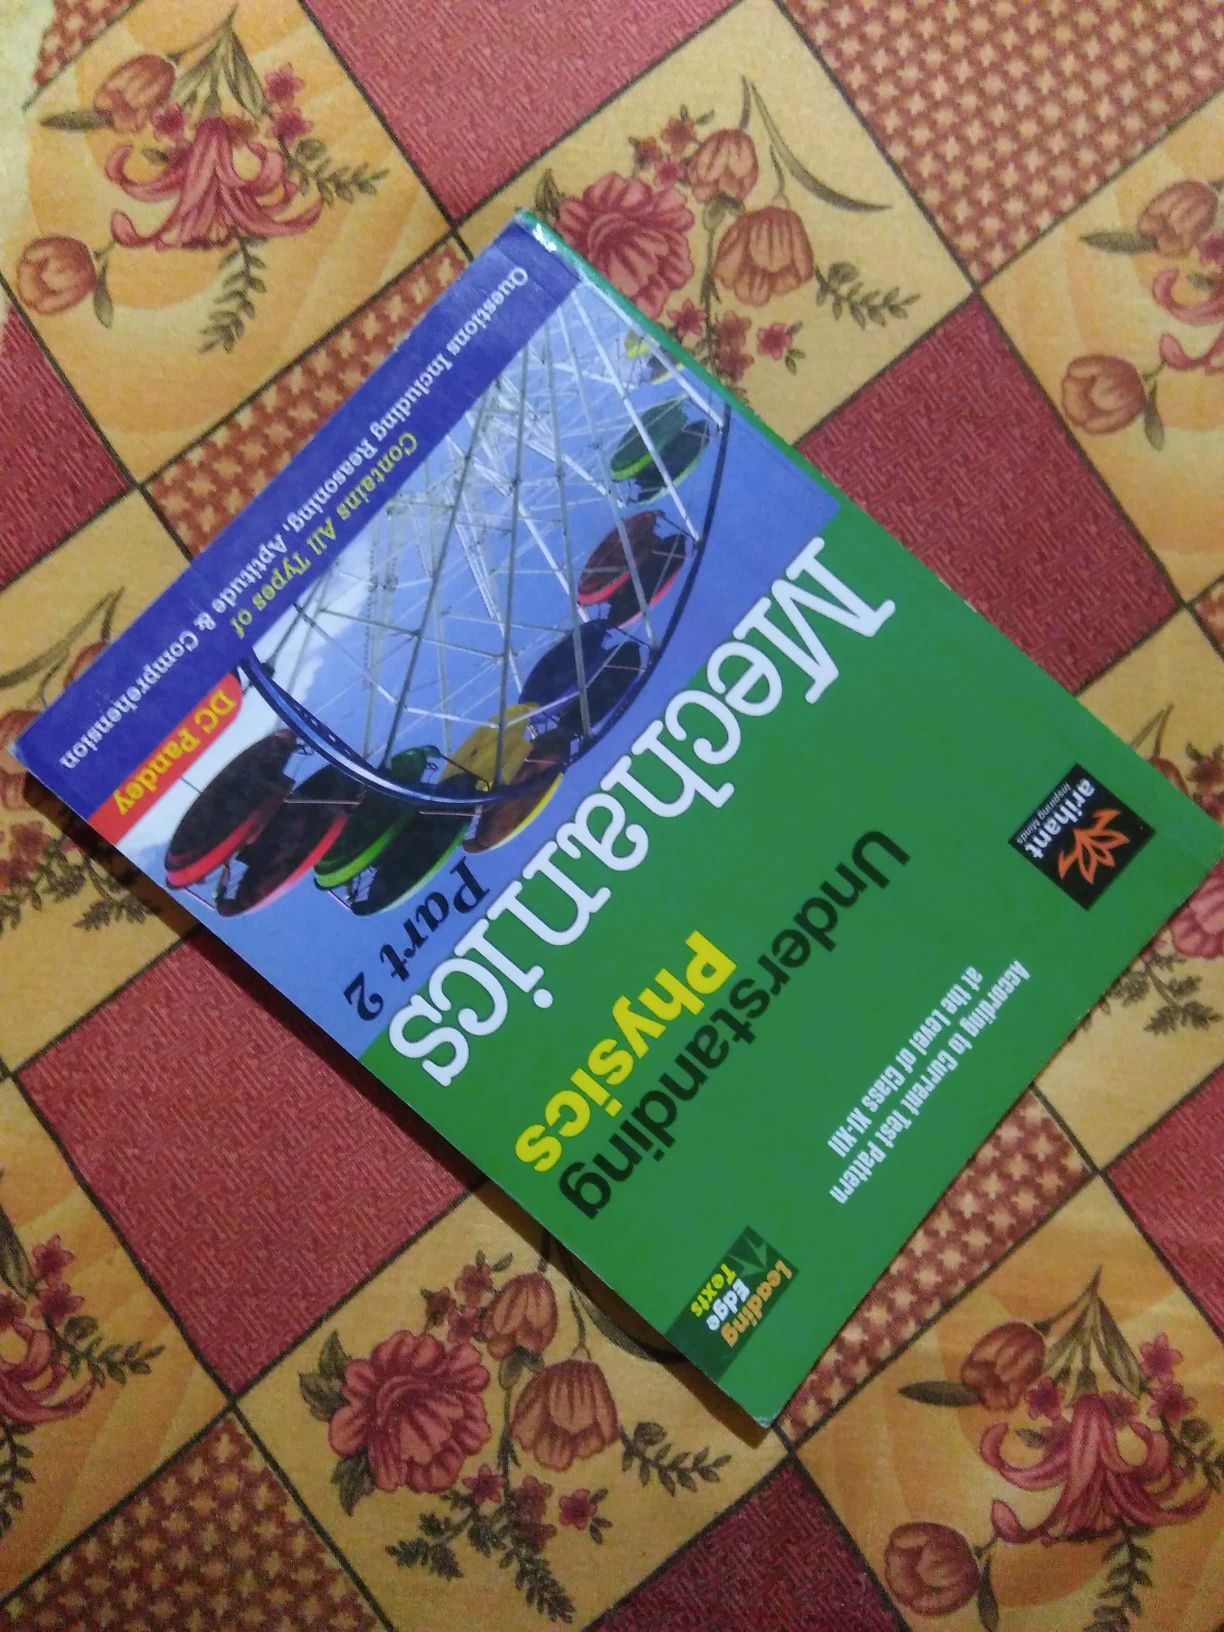mechanics: (87, 271, 1224, 1385)
